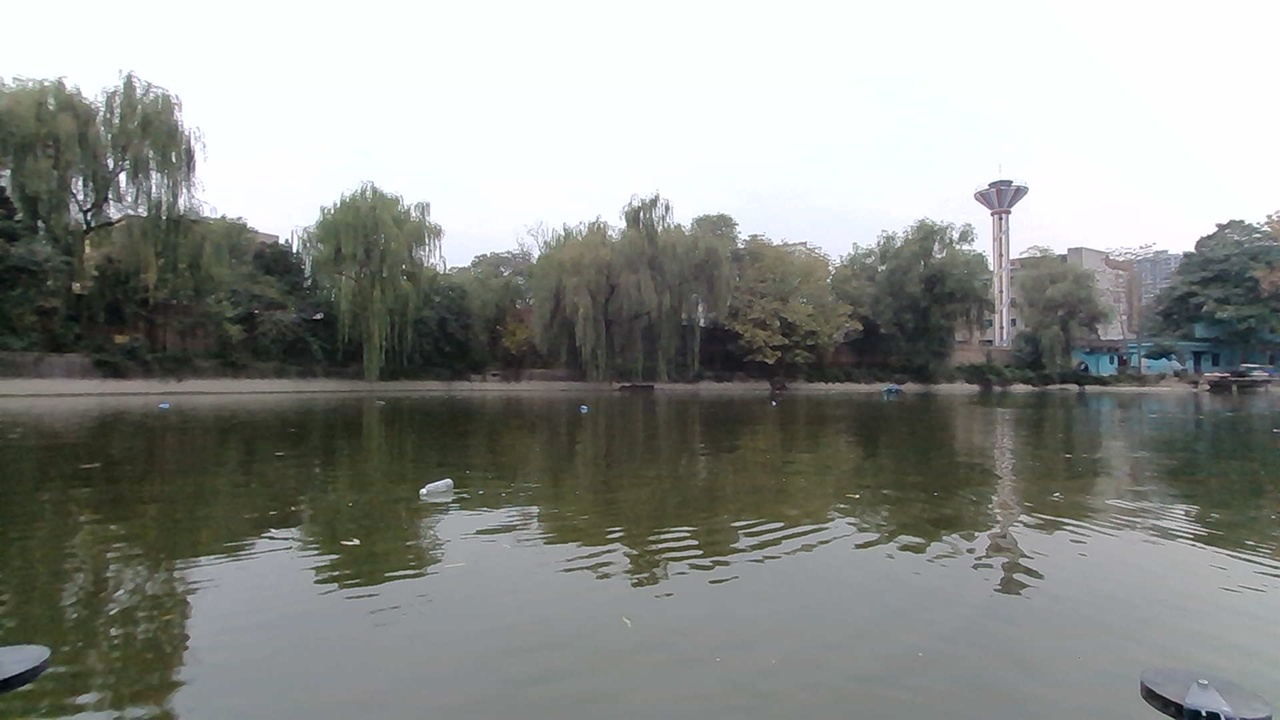bottle: (410, 476, 469, 505), (568, 401, 599, 419)
